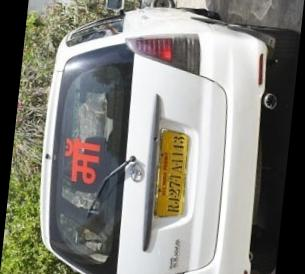plate: (137, 113, 207, 232)
